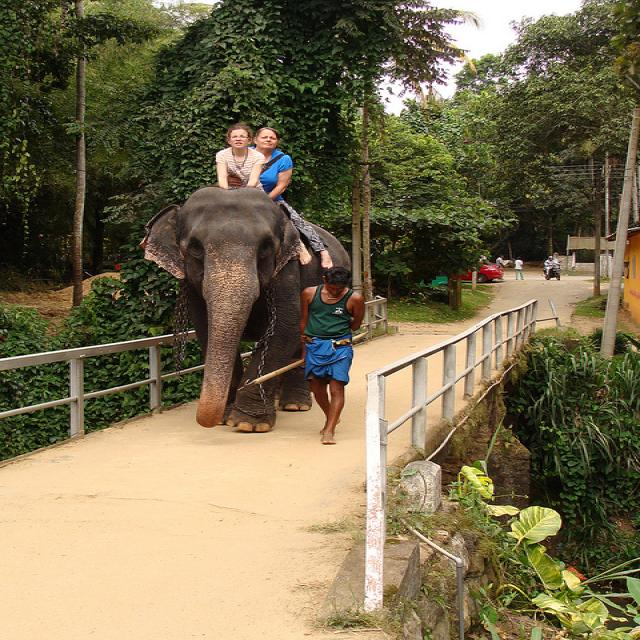motor: (542, 264, 561, 281)
